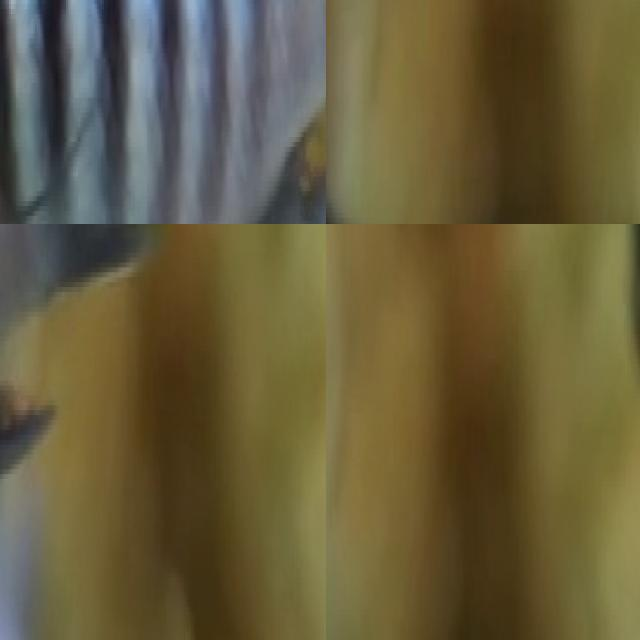fish: (0, 0, 326, 224), (326, 0, 576, 224)
